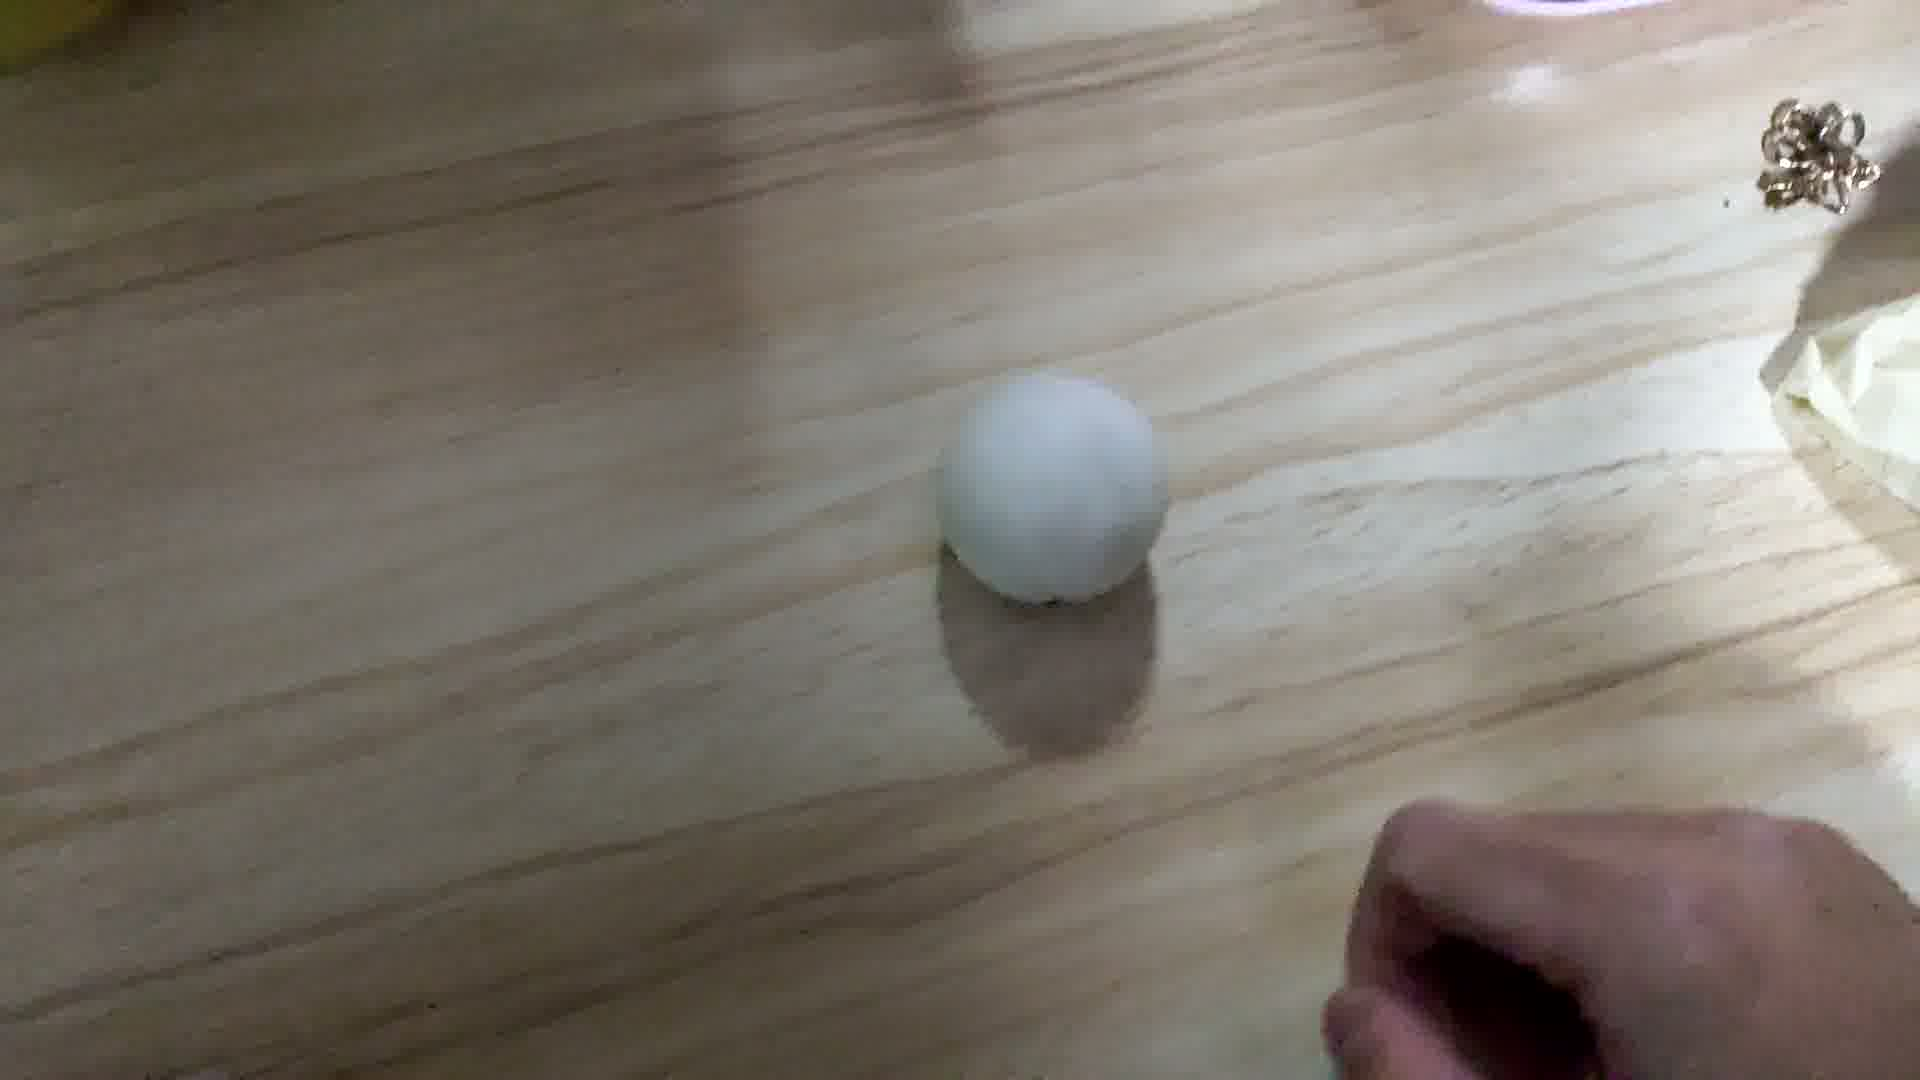Ball: (938, 369, 1175, 607)
